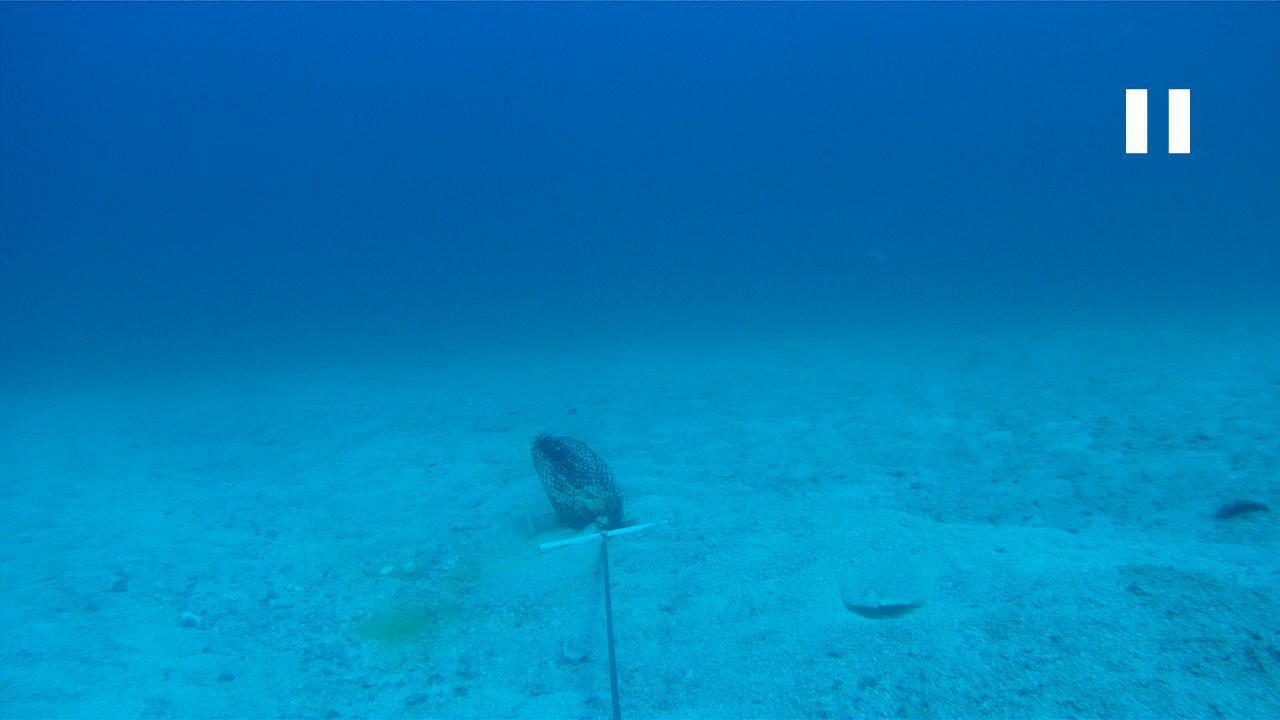bothus: (836, 543, 936, 617)
